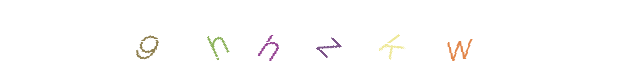9: (136, 0, 216, 80)
H: (209, 0, 289, 80), (260, 0, 340, 80)
K: (331, 0, 411, 80)
W: (419, 0, 499, 80)
Z: (275, 0, 355, 80)
